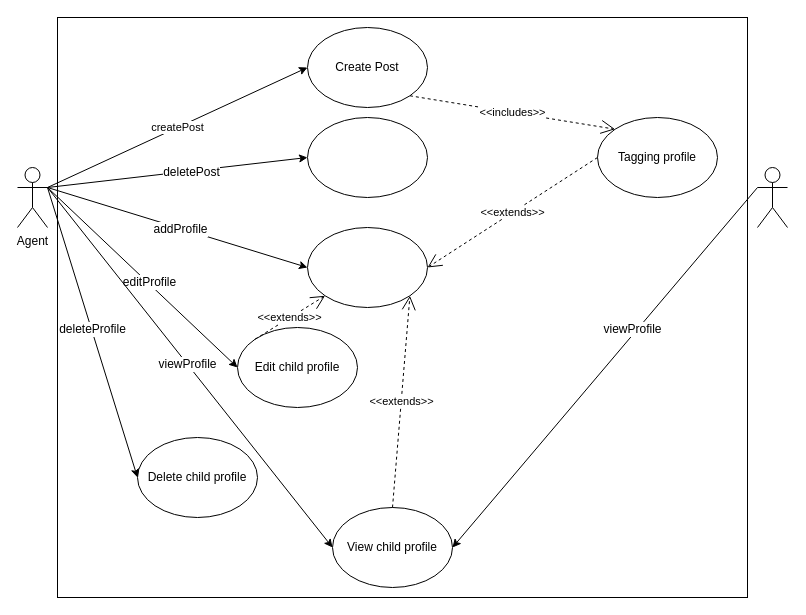
Image size: 806x615. Some labels were removed from this diagram. Here are the shapes that lost their labels. From the top down, the centre of each, then its label:
[367,157]: Delete Post
[772,197]: Donor
[367,267]: Create child profile
